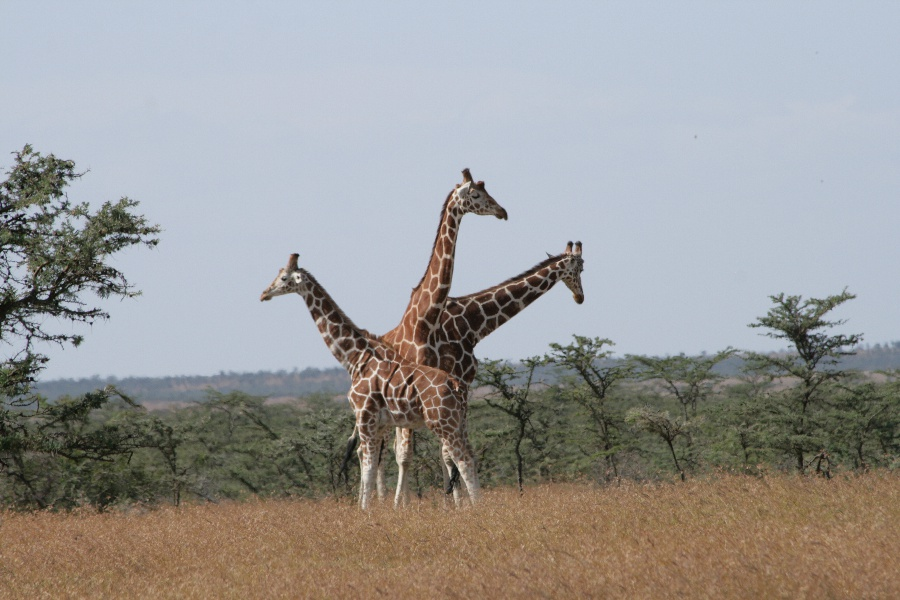giraffe: (249, 246, 484, 510), (427, 239, 620, 350)
